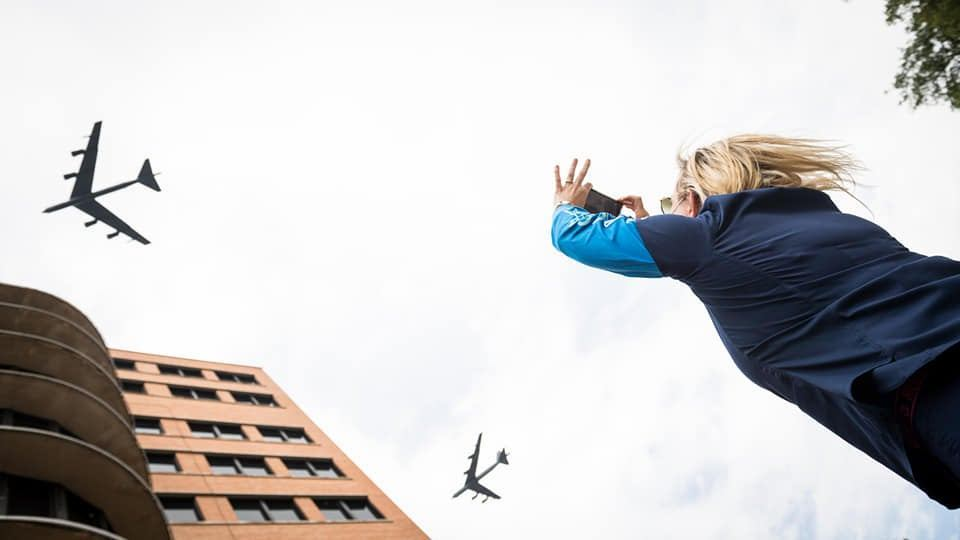B52: (41, 120, 162, 245), (451, 431, 511, 504)
